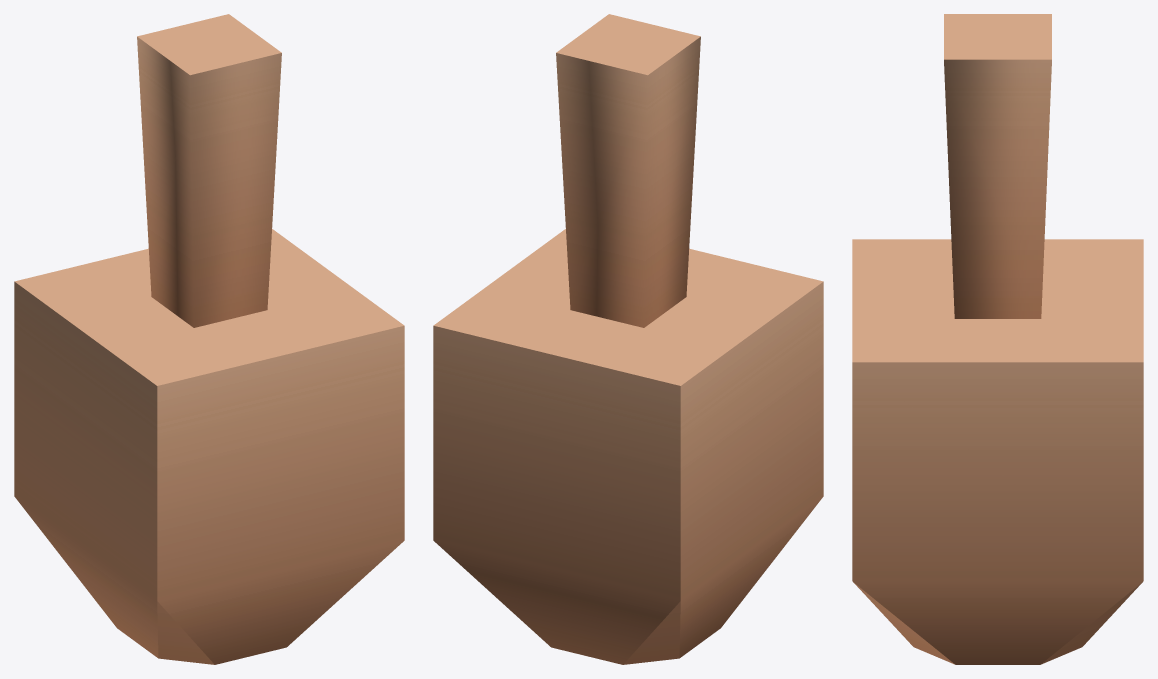
The model's file is dreidel.glb.
The picture shows the model from 3 angles, left to right: view 1: azimuth 30°, elevation 25°; view 2: azimuth 150°, elevation 25°; view 3: azimuth 270°, elevation 25°; orthographic projection.
Visible parts, largest first — view 1: hanukkah-dreidel; view 2: hanukkah-dreidel; view 3: hanukkah-dreidel.
Part boxes in pixels (x1,y1,x2,y2): hanukkah-dreidel: (14, 14, 404, 664); hanukkah-dreidel: (433, 14, 823, 664); hanukkah-dreidel: (852, 14, 1143, 664).
Size of the model in its own units: 0.1606 by 0.3604 by 0.1606.
Materials: 1 (1 with a texture image).
